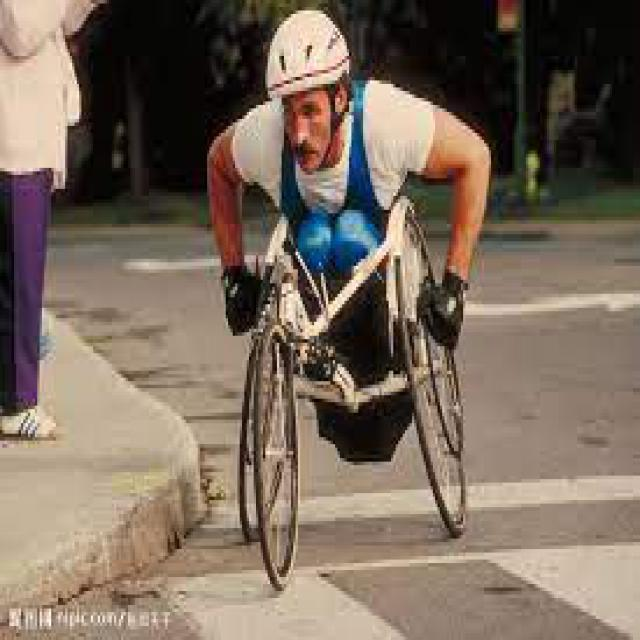wheelchairs: (205, 192, 489, 608)
